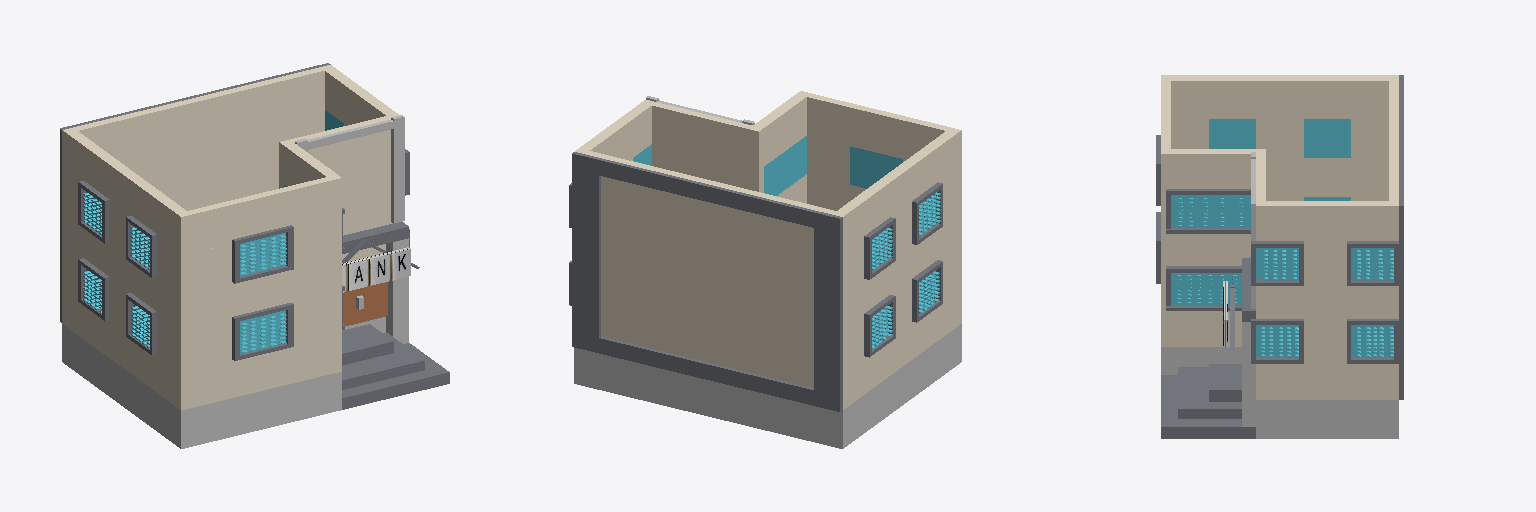
3 renders of one model, left to right at view 1: azimuth 30°, elevation 25°; view 2: azimuth 150°, elevation 25°; view 3: azimuth 270°, elevation 25°, orthographic.
Visible parts, largest first — view 1: pCube7, pCube2, pasted__pCube20_group11, pCube22, pasted__pCube13_group24, pCube16, pCube20, pCube8, pCube13, pCube1, pasted__pCube12_group17, pCube3 (+21 smaller); view 2: pCube7, pCube1, pCube22, pasted__pCube37_group199, pasted__pCube13_group24, pCube37, pasted__pCube20_group11, pCube8, pCube13, pasted__pCube38_group200, pCube38, pasted__pCube12_group17 (+12 smaller); view 3: pasted__pCube13_group24, pasted__pCube12_group17, pCube1, pCube6, pCube12, pCube13, pasted__pasted__pCube21_pasted__group6_group13, pCube3, pasted__pCube21_group6, pasted__pCube21_group12, pasted__pCube21_group7, pCube5 (+21 smaller).
Part boxes in pixels (x1,y1,x2,y2): pCube7: (73,67,324,210); pCube2: (134,372,341,448); pasted__pCube20_group11: (188,174,341,252); pCube22: (279,116,390,261); pasted__pCube13_group24: (62,128,191,255); pCube16: (192,333,341,407); pCube20: (192,255,341,330); pCube8: (62,285,191,410); pCube13: (62,208,191,332); pCube1: (62,317,385,413); pasted__pCube12_group17: (320,65,399,125); pCube3: (342,343,449,409); pCube7: (586,151,835,387); pCube1: (574,348,913,448); pCube22: (652,102,763,192); pasted__pCube37_group199: (814,211,842,411); pasted__pCube13_group24: (832,128,961,254); pCube37: (572,152,600,352); pasted__pCube20_group11: (797,91,950,159); pCube8: (843,285,961,409); pCube13: (843,208,961,332); pasted__pCube38_group200: (599,158,814,227); pCube38: (599,336,813,405); pasted__pCube12_group17: (575,100,655,159); pasted__pCube13_group24: (1161,75,1398,118); pasted__pCube12_group17: (1256,201,1398,244); pCube1: (1256,400,1398,438); pCube6: (1256,361,1398,399); pCube12: (1256,284,1398,321); pCube13: (1266,158,1388,196); pasted__pasted__pCube21_pasted__group6_group13: (1171,149,1255,188); pCube3: (1161,375,1255,438); pasted__pCube21_group6: (1171,234,1250,265); pasted__pCube21_group12: (1171,195,1250,227); pasted__pCube21_group7: (1171,311,1241,346); pCube5: (1178,367,1241,418).
Bounding box in the file's own units: 62.8 × 50.32 × 48.21.
Materials: 22 (6 with a texture image).